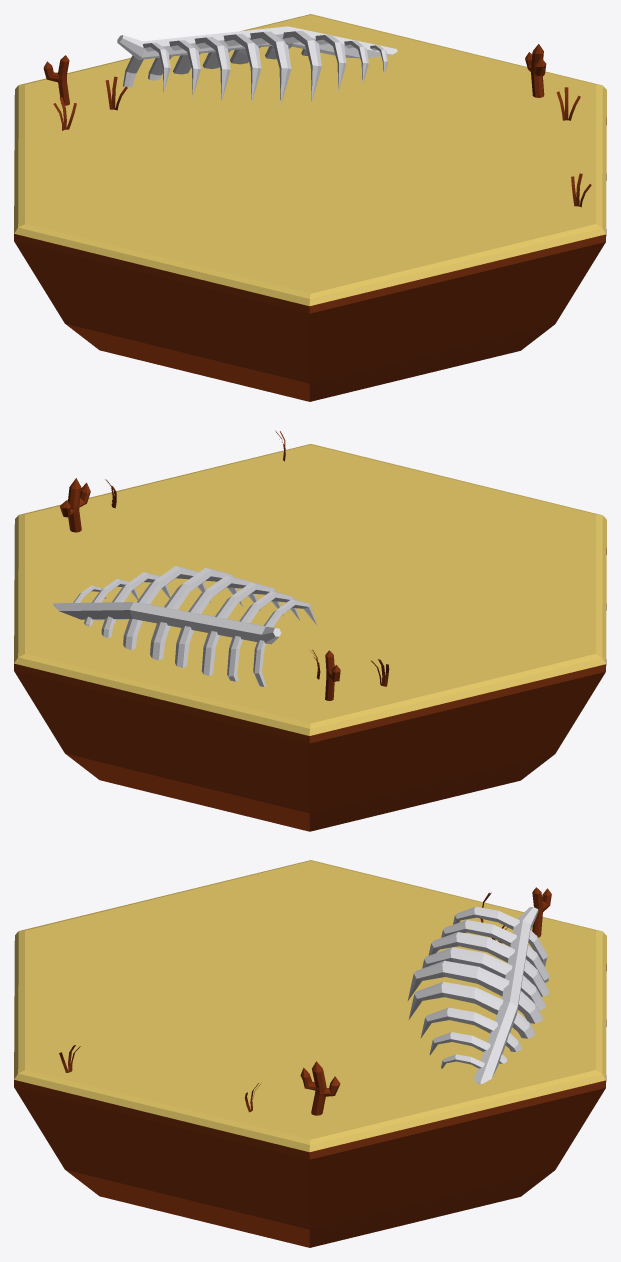
File: Asset_Biome_Desert.fbx
3 renders of one model, top to bottom at view 1: azimuth 30°, elevation 25°; view 2: azimuth 150°, elevation 25°; view 3: azimuth 270°, elevation 25°, orthographic.
Visible parts, largest first — view 1: Asset_Tile_Desert, PolySurface_skeleton, PolySurface_cactus_02, PolySurface_cactus_01; view 2: Asset_Tile_Desert, PolySurface_skeleton, PolySurface_cactus_02; view 3: Asset_Tile_Desert, PolySurface_skeleton, PolySurface_cactus_02, PolySurface_cactus_01.
Boxes of the visible parts, bbox=[...] form: Asset_Tile_Desert: bbox=[14, 14, 606, 401]; PolySurface_skeleton: bbox=[117, 26, 397, 105]; PolySurface_cactus_02: bbox=[525, 44, 546, 97]; PolySurface_cactus_01: bbox=[43, 55, 69, 105]; Asset_Tile_Desert: bbox=[14, 444, 606, 831]; PolySurface_skeleton: bbox=[53, 566, 316, 686]; PolySurface_cactus_02: bbox=[60, 478, 90, 532]; Asset_Tile_Desert: bbox=[14, 860, 606, 1247]; PolySurface_skeleton: bbox=[407, 906, 549, 1084]; PolySurface_cactus_02: bbox=[300, 1061, 340, 1115]; PolySurface_cactus_01: bbox=[532, 887, 551, 937].
Size of the model in its own units: 436 by 154 by 378.
Materials: 1 (1 with a texture image).
